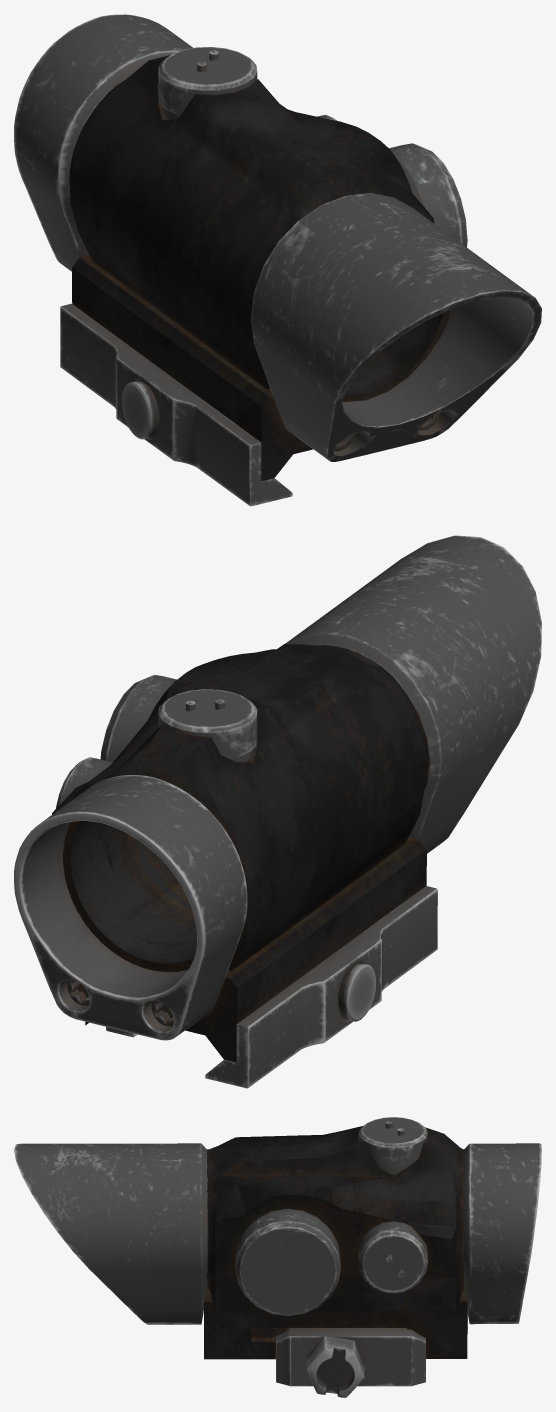
File: Sight_8.glb
3 views of the same model, one above another, from view 1: azimuth 30°, elevation 25°; view 2: azimuth 150°, elevation 25°; view 3: azimuth 270°, elevation 25° (orthographic). The views are drawn at different scales.
Visible parts, largest first — view 1: Sight_8; view 2: Sight_8; view 3: Sight_8.
Boxes of the visible parts, <box> form: Sight_8: <box>14,14,541,506</box>; Sight_8: <box>14,535,541,1088</box>; Sight_8: <box>14,1117,541,1397</box>.
Size of the model in its own units: 0.0401 by 0.0483 by 0.1005.
1 material, 1 textured.
